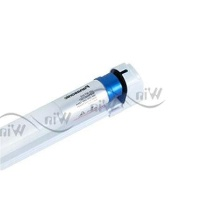light_bulb: (0, 56, 147, 174)
